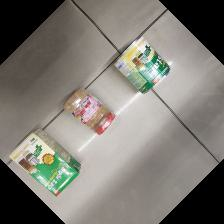Hao_hao: (62, 89, 115, 137)
NSPN_Hop: (10, 130, 81, 197)
NSPN_Lon: (113, 36, 171, 96)
